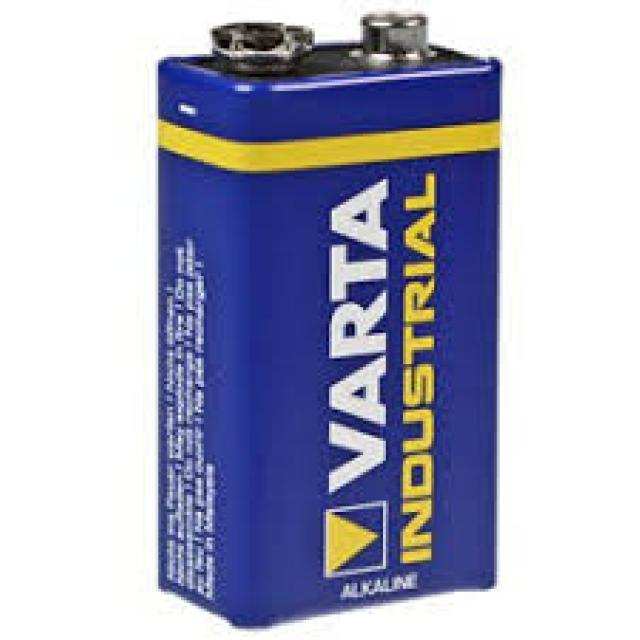Battery: (154, 14, 500, 634)
